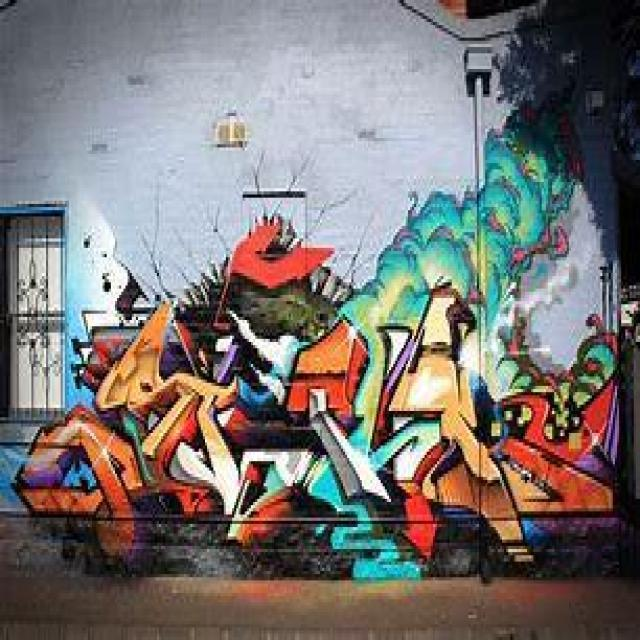nonspitting: (12, 91, 622, 574)
